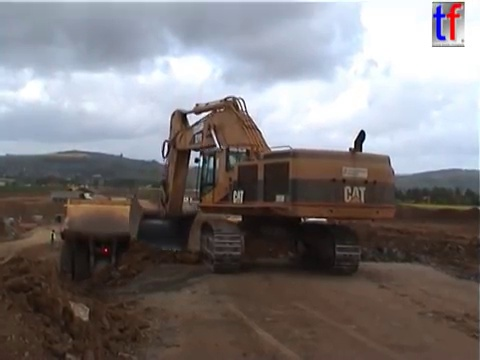excavator: (126, 93, 399, 276)
truck: (53, 193, 150, 283), (49, 188, 95, 204), (64, 185, 93, 199)
worker: (46, 226, 58, 249)
